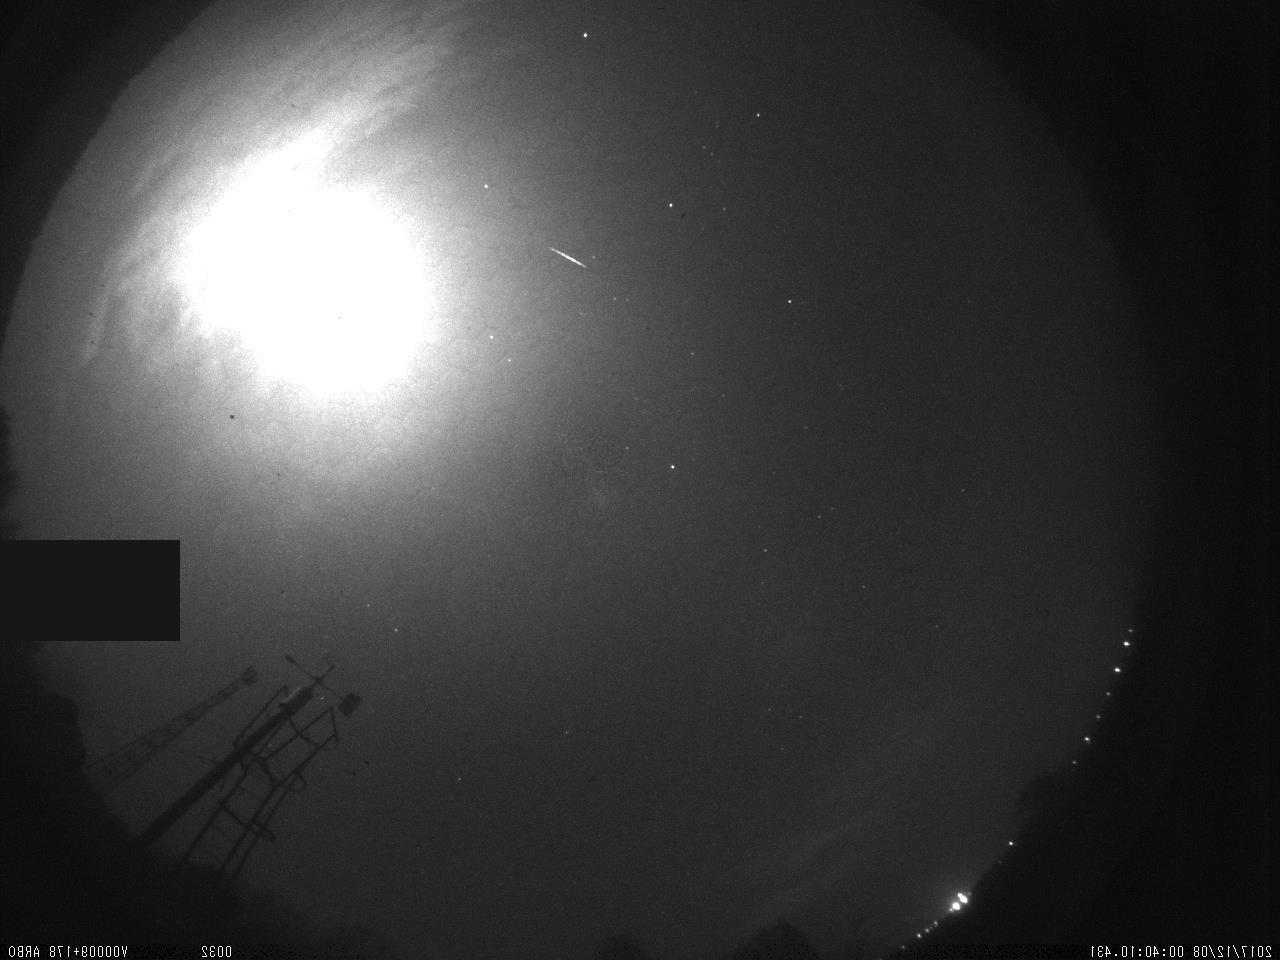meteor: (532, 224, 597, 283)
